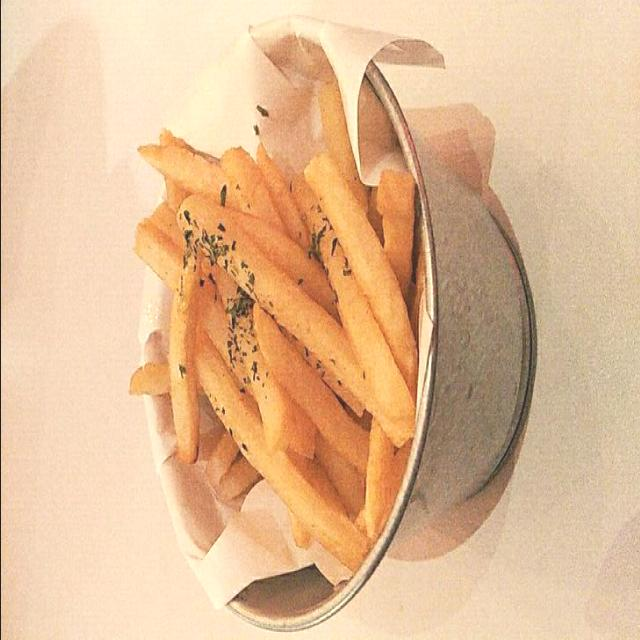kentang goreng: (132, 79, 438, 581)
